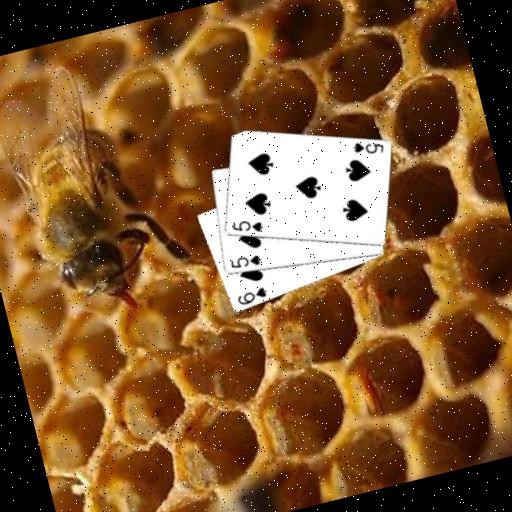5S: (228, 212, 266, 240), (349, 134, 387, 162), (226, 250, 264, 274)
6S: (233, 284, 270, 309)
